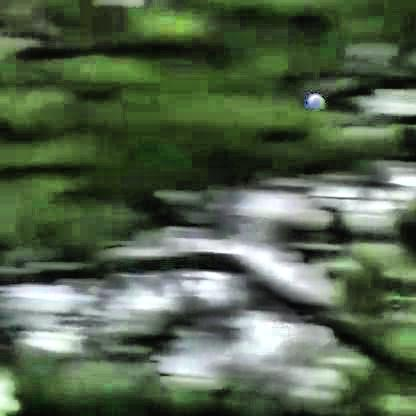golfball: (303, 91, 325, 109)
